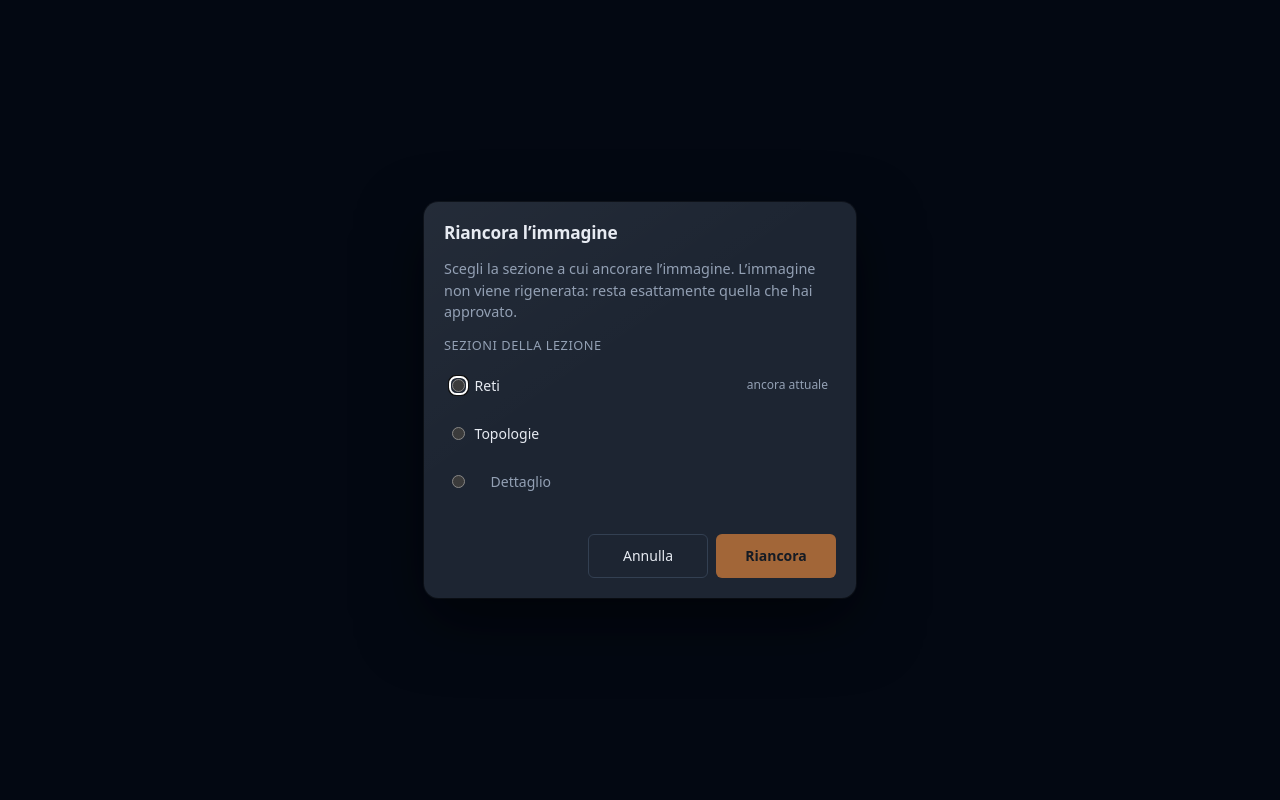
Test: LessonVisualReanchorDialog › «Riancora» è disabilitato finché non si sceglie
The width and height of the screenshot is (1280, 800).
Expected: the button "Riancora" is disabled, [716, 534, 836, 578]
Click the radio button labelled "Topologie" at (458, 433), box [452, 427, 465, 440]
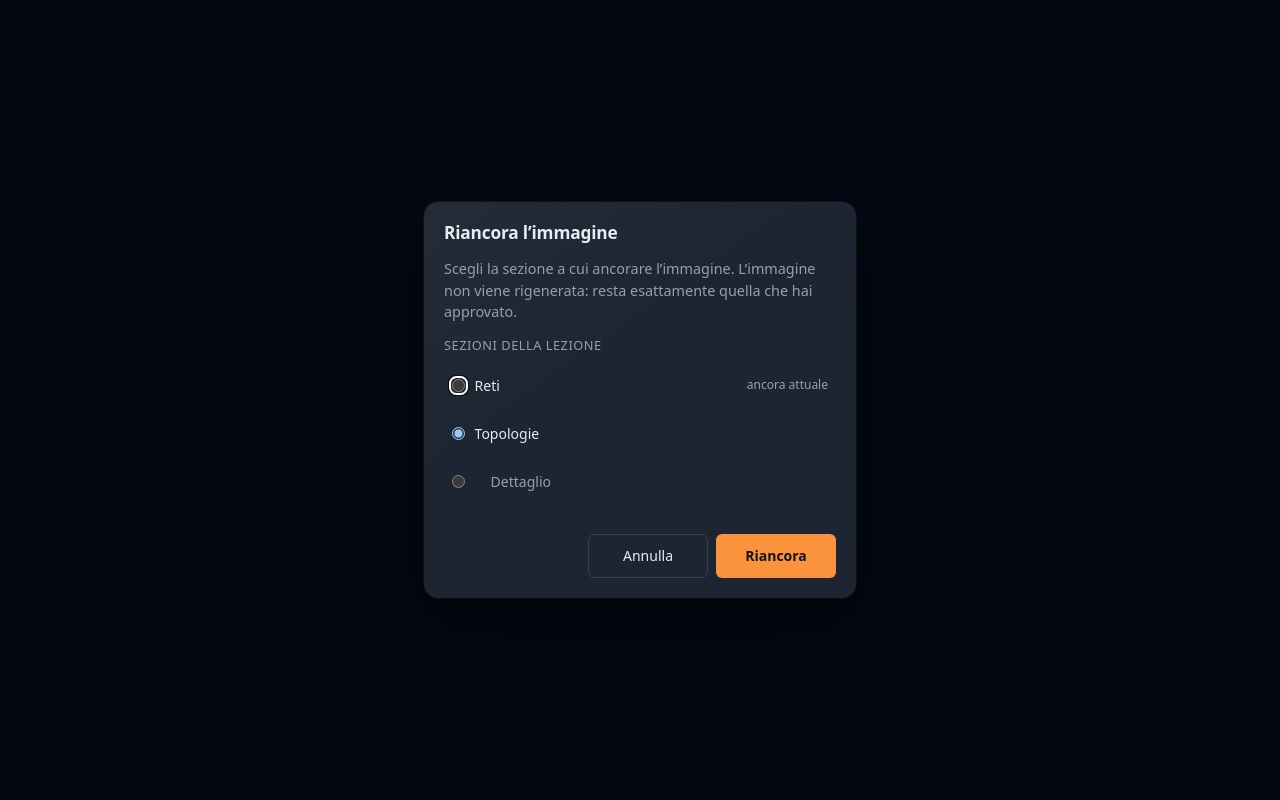
Now the button "Riancora" is enabled, box [716, 534, 836, 578]
